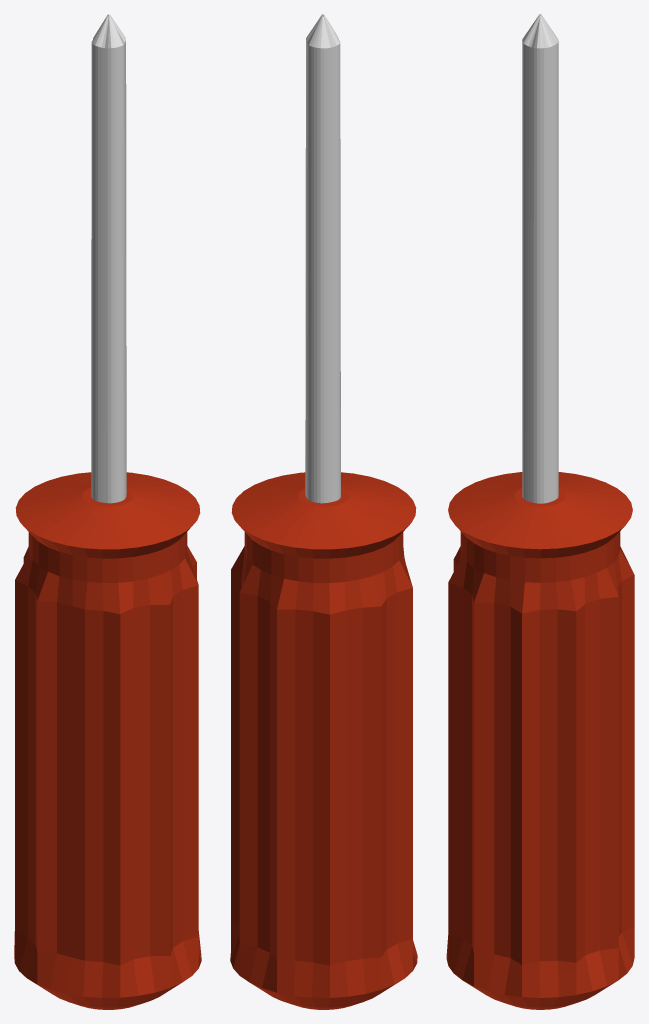
File: Screwdriver.fbx
3 renders of one model, left to right at view 1: azimuth 30°, elevation 25°; view 2: azimuth 150°, elevation 25°; view 3: azimuth 270°, elevation 25°, orthographic.
Parts seen in each view (by area): view 1: Screwdriver_top; view 2: Screwdriver_top; view 3: Screwdriver_top.
Part boxes in pixels (x1,y1,x2,y2): Screwdriver_top: [14, 14, 201, 1009]; Screwdriver_top: [230, 14, 417, 1009]; Screwdriver_top: [446, 14, 634, 1009].
Size of the model in its own units: 50.21 by 288 by 50.21.
